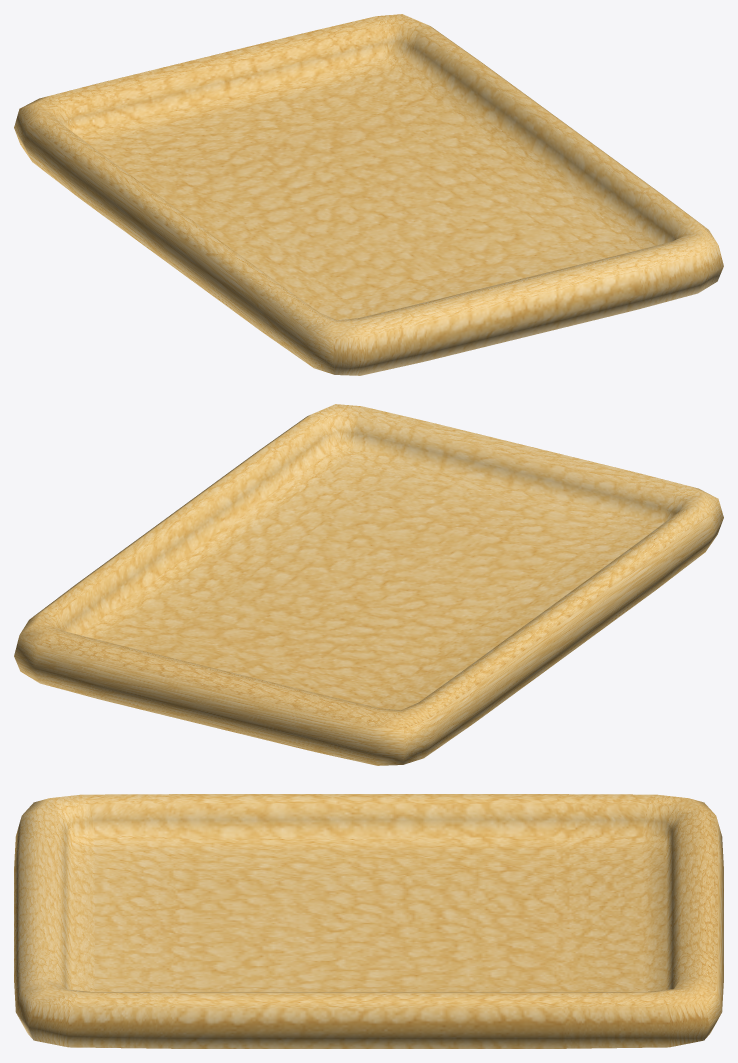
Rendered from rug_elevator.glb.
3 renders of one model, top to bottom at view 1: azimuth 30°, elevation 25°; view 2: azimuth 150°, elevation 25°; view 3: azimuth 270°, elevation 25°, orthographic. The views are drawn at different scales.
Parts seen in each view (by area): view 1: Elevator; view 2: Elevator; view 3: Elevator.
Boxes of the visible parts, <box> form: Elevator: <box>14,14,723,375</box>; Elevator: <box>14,404,723,765</box>; Elevator: <box>14,794,723,1048</box>.
Size of what is drawn, in the model's own units: 2.94 by 0.4098 by 4.13.
1 material, 1 textured.
